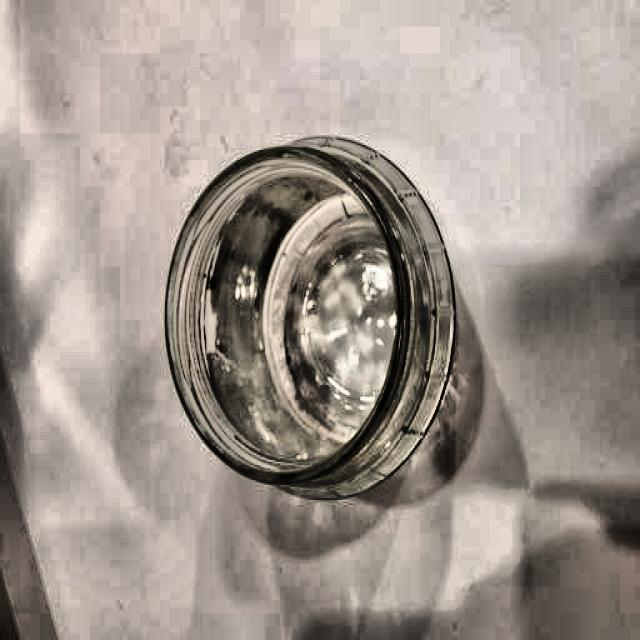glass: (156, 131, 457, 502)
